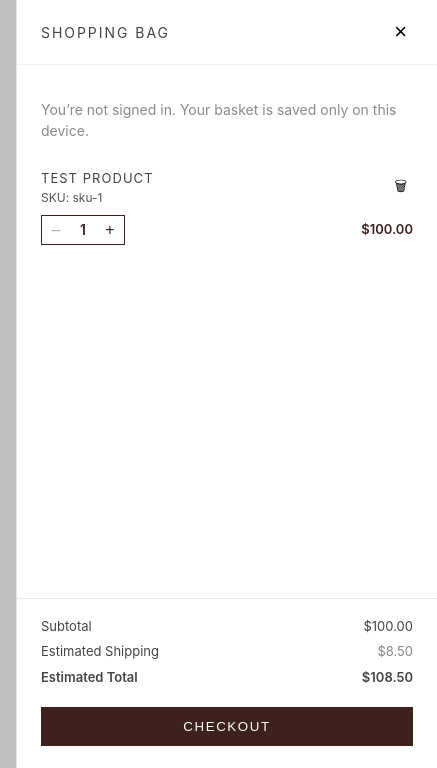
Test: Cart page - quantity update & totals › updates line total and subtotal when item quantity changes
The width and height of the screenshot is (437, 768).
expect the text "Test Product" is shown: met, box left=41, top=169, right=154, bottom=188
expect the text with class "cart-qty-value" reads "1": met, box left=80, top=221, right=86, bottom=238
Step 1. Click the button with class "cart-qty-btn" showing "+" → {"x": 110, "y": 230}, box left=96, top=216, right=124, bottom=244
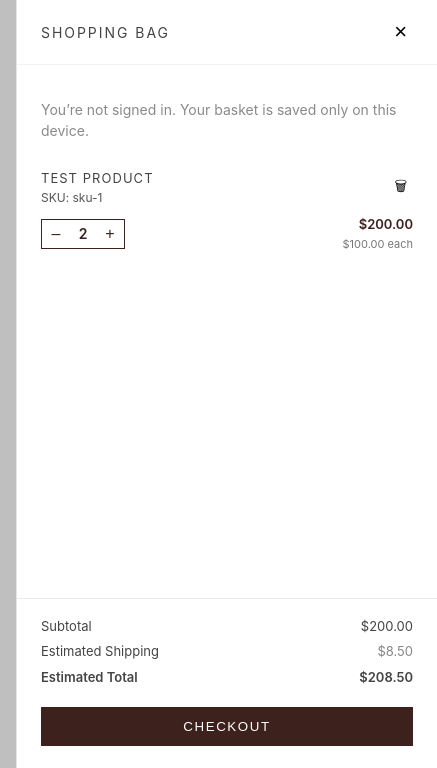
expect the text with class "cart-qty-value" reads "2": met, box left=79, top=225, right=87, bottom=242
expect the text with class "cart-line-total" reads "$200.00": met, box left=359, top=216, right=413, bottom=232
expect the text "$200.00" in the row of "Subtotal" is shown: met, box left=361, top=618, right=413, bottom=634
